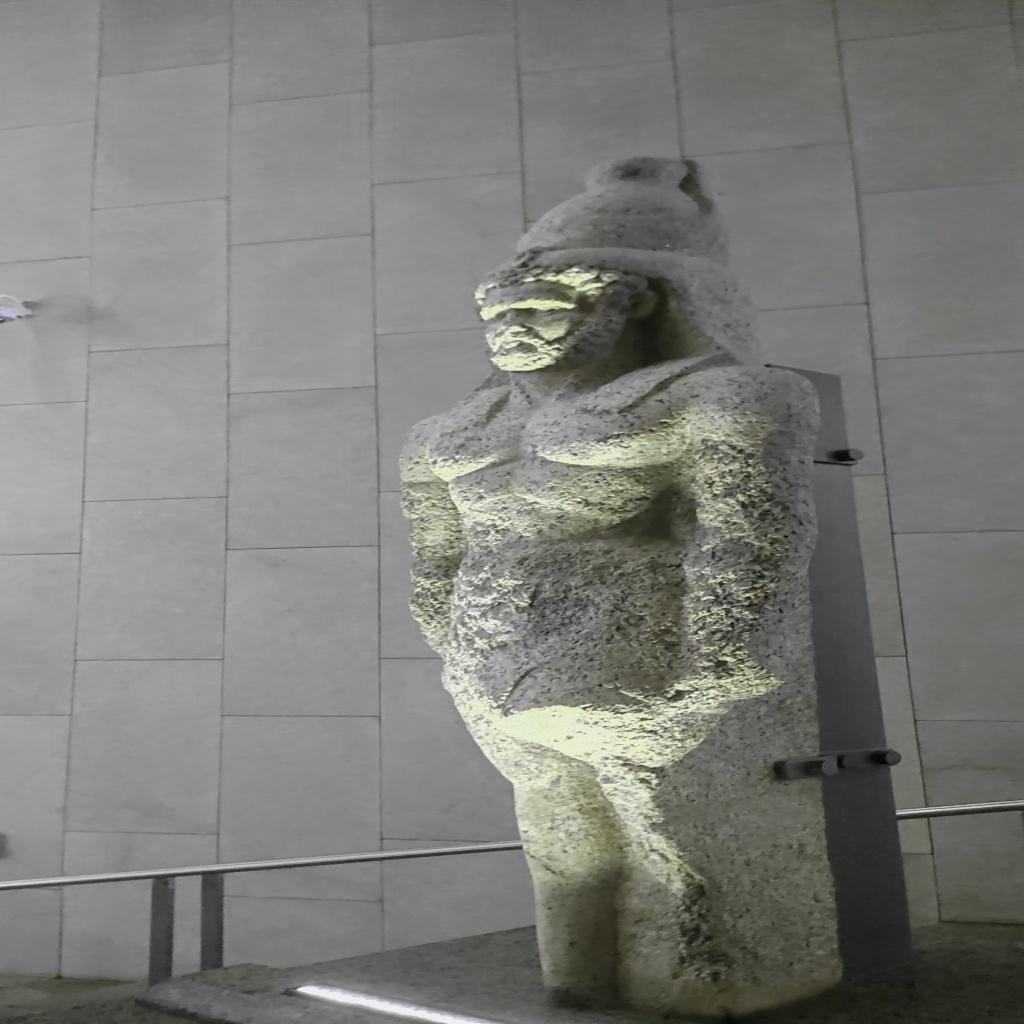Statue of Carcala: (392, 153, 852, 1019)
